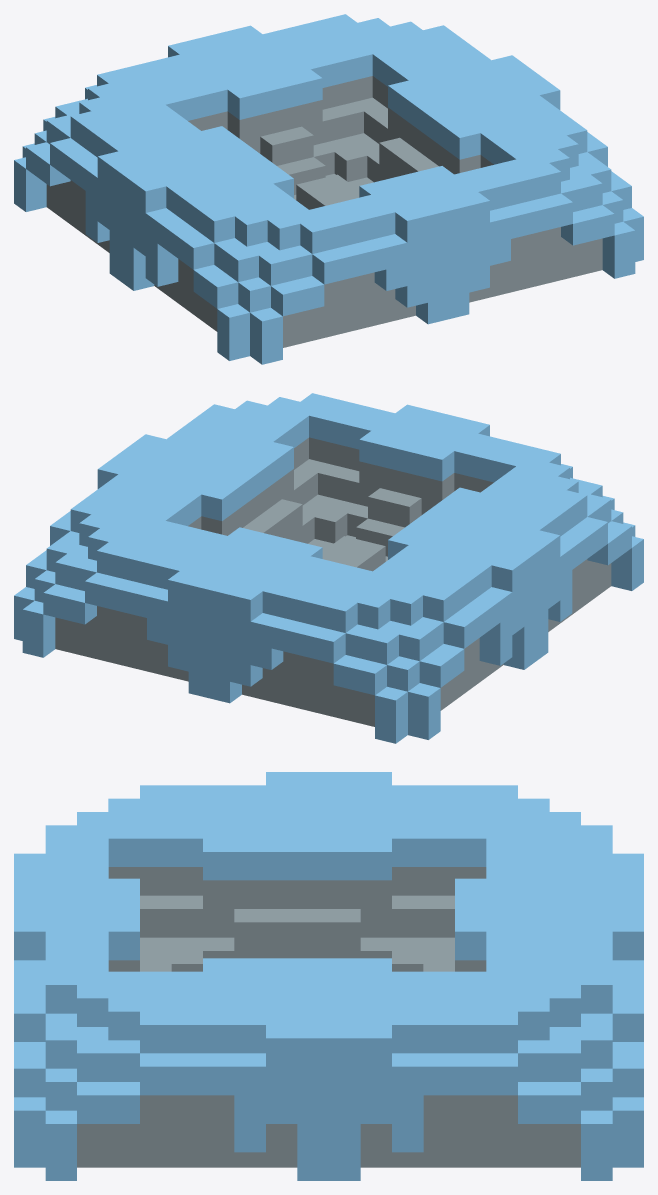
Rendered from Lift-2.obj.
3 views of the same model, one above another, from view 1: azimuth 30°, elevation 25°; view 2: azimuth 150°, elevation 25°; view 3: azimuth 270°, elevation 25° (orthographic). The views are drawn at different scales.
Size of the model in its own units: 2 by 0.5 by 2.
1 material, 1 textured.
